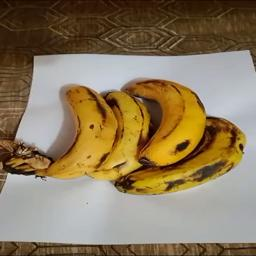Banana Semifresh: (25, 85, 117, 181), (124, 73, 212, 170), (107, 82, 156, 193)
